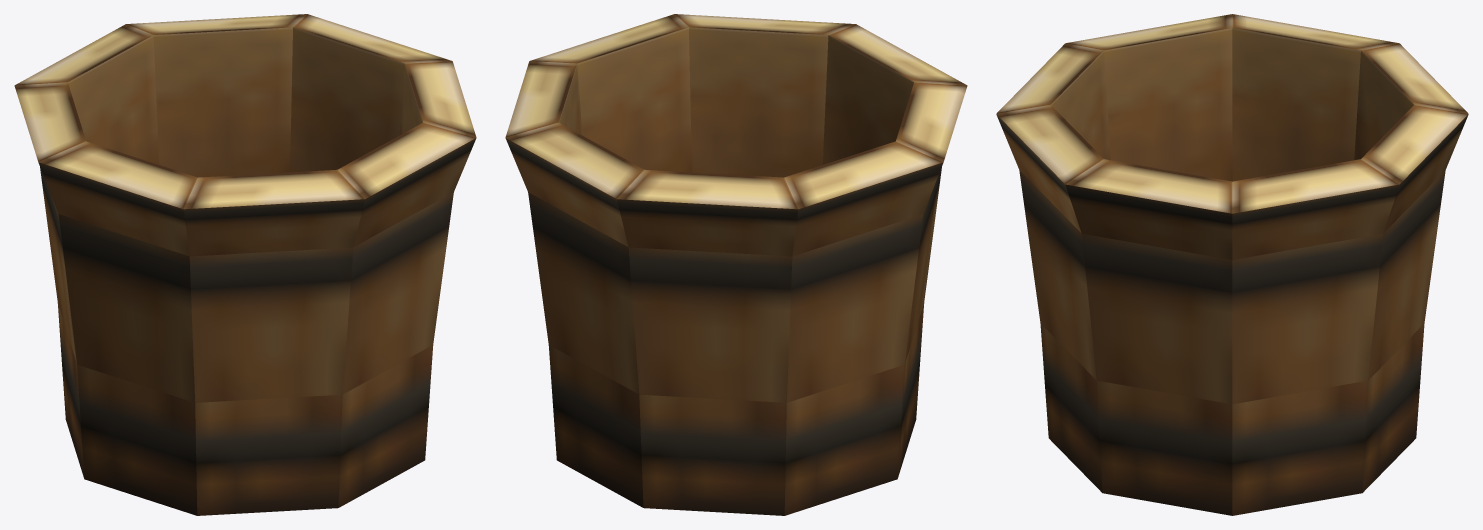
The model's file is Inside_Poly_Bucket_01.obj.
3 renders of one model, left to right at view 1: azimuth 30°, elevation 25°; view 2: azimuth 150°, elevation 25°; view 3: azimuth 270°, elevation 25°, orthographic.
Visible parts, largest first — view 1: Sphere_Sphere.004; view 2: Sphere_Sphere.004; view 3: Sphere_Sphere.004.
Part boxes in pixels (x1,y1,x2,y2): Sphere_Sphere.004: (14, 14, 476, 515); Sphere_Sphere.004: (505, 14, 967, 515); Sphere_Sphere.004: (996, 14, 1468, 515).
Size of the model in its own units: 0.6939 by 0.5402 by 0.6939.
Materials: 1 (1 with a texture image).
